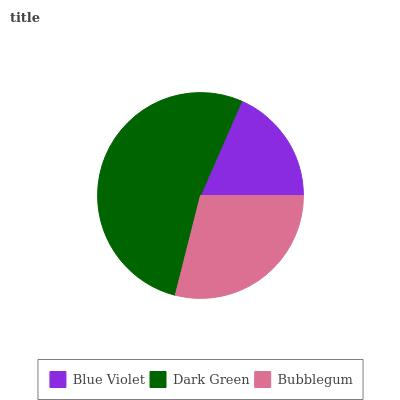legend: (38, 361, 368, 400)
sector: (95, 93, 246, 297), (177, 196, 304, 299), (198, 99, 305, 196)
